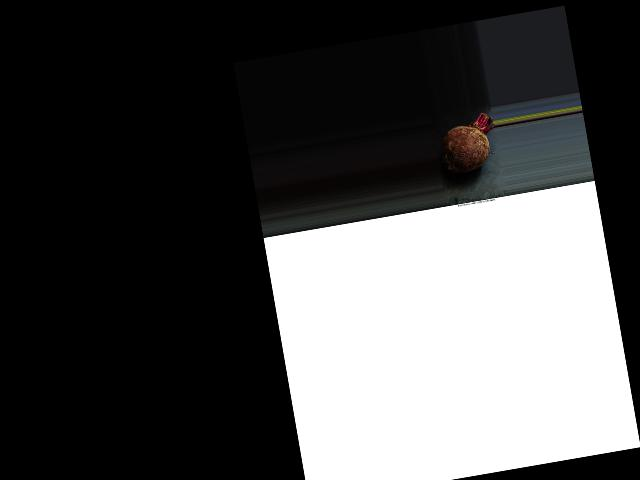beet: (436, 111, 501, 175)
